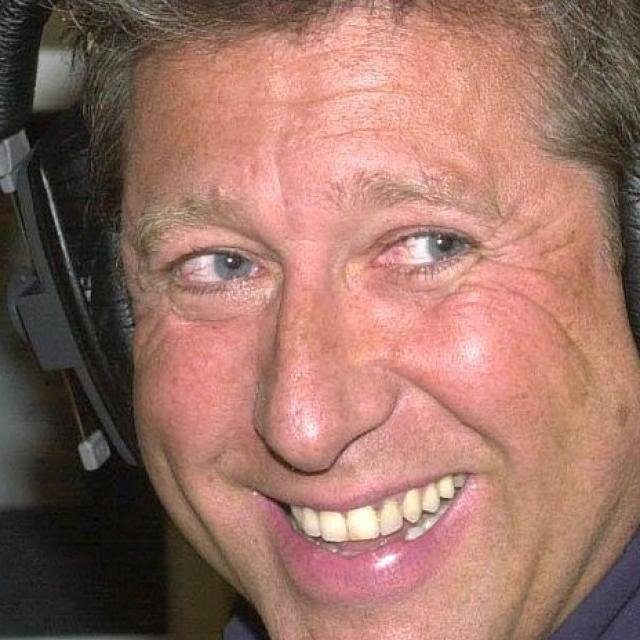Normal: (121, 9, 639, 639)
